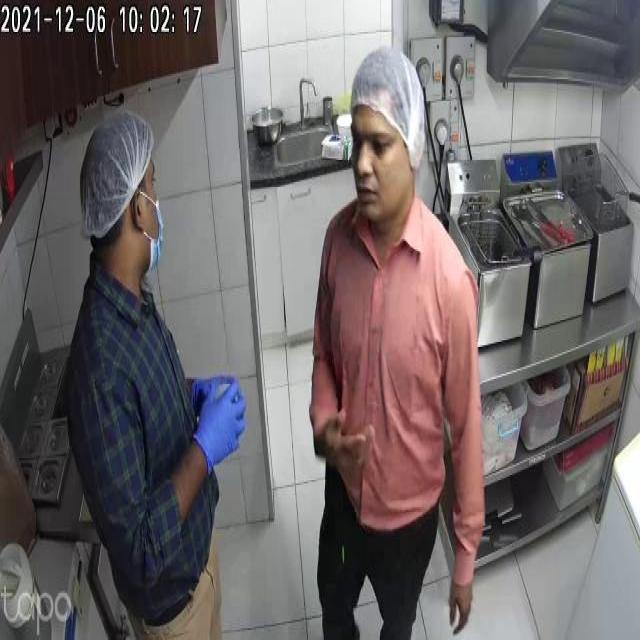bare_hand: (309, 397, 364, 482), (444, 566, 478, 635)
gloved_hand: (189, 376, 251, 485), (186, 359, 242, 413)
